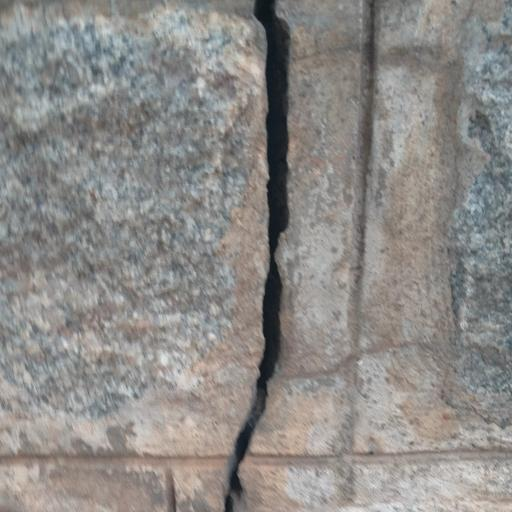major_crack: (221, 0, 301, 512)
